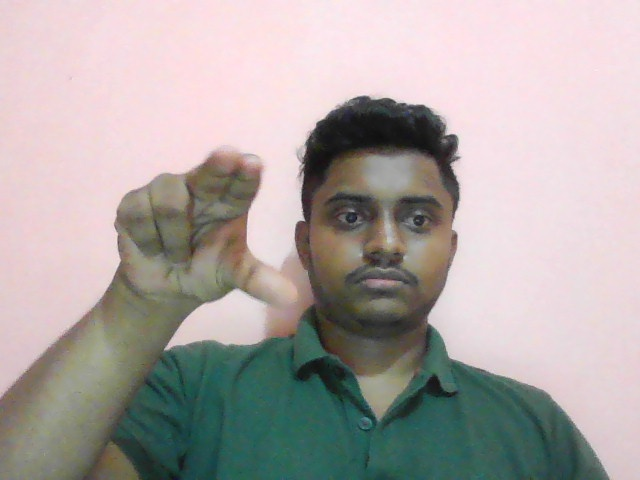No: (104, 136, 308, 340)
